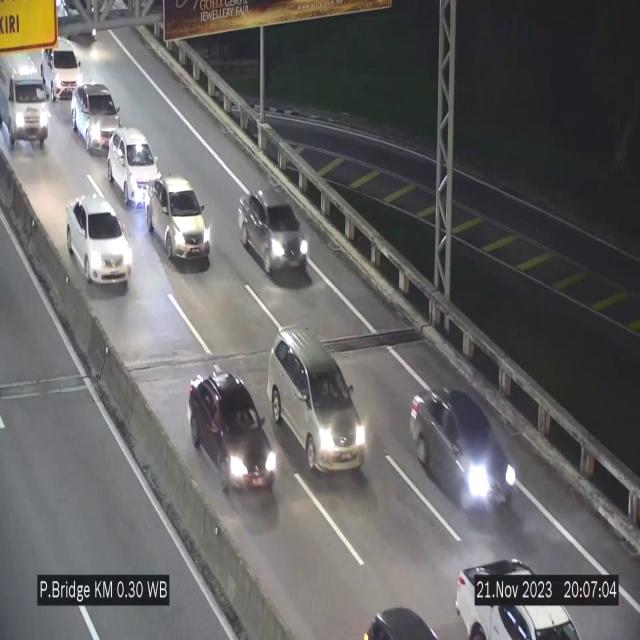Car: (269, 326, 371, 484), (412, 385, 514, 522), (447, 551, 593, 640), (195, 375, 278, 506), (238, 190, 310, 281), (67, 196, 132, 286), (0, 44, 55, 148), (147, 176, 211, 264), (108, 127, 162, 205), (72, 84, 121, 156), (42, 33, 86, 98)
